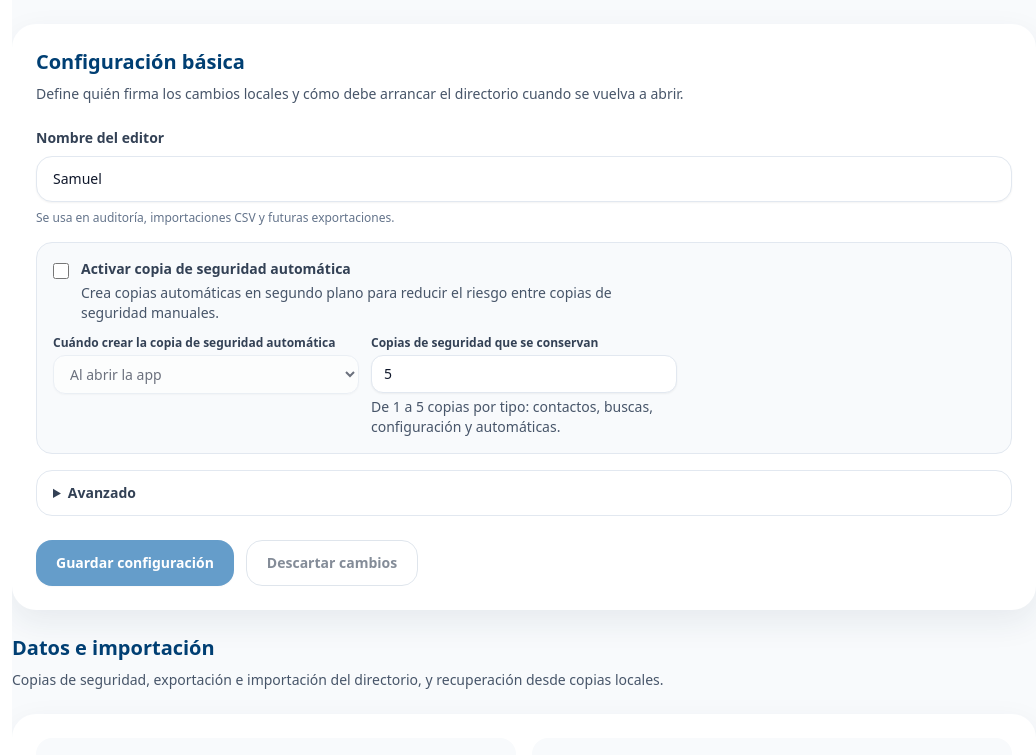
it: SettingsPage › restores the last persisted values when discarding changes
Check: the heading "Configuración básica" is shown, box [36,48,245,75]
Replace the text in the field labelled "Nombre del editor" with "Temporal" at (524, 179), box [36,156,1012,202]
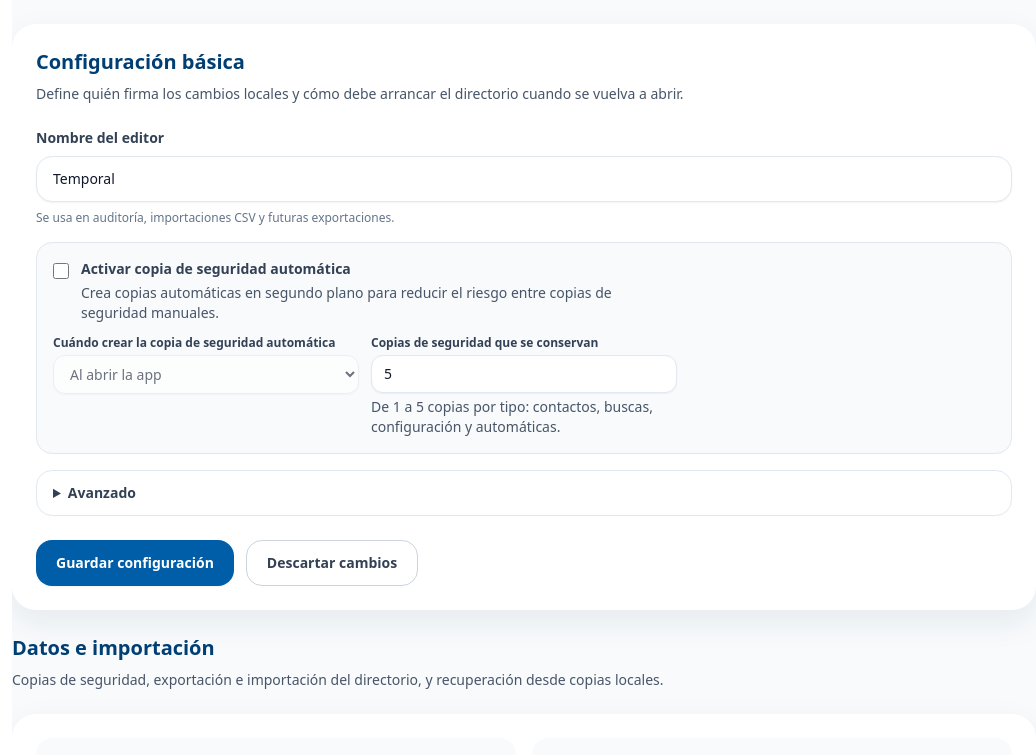
Click the button "Descartar cambios" at (332, 563), box [246,540,418,586]
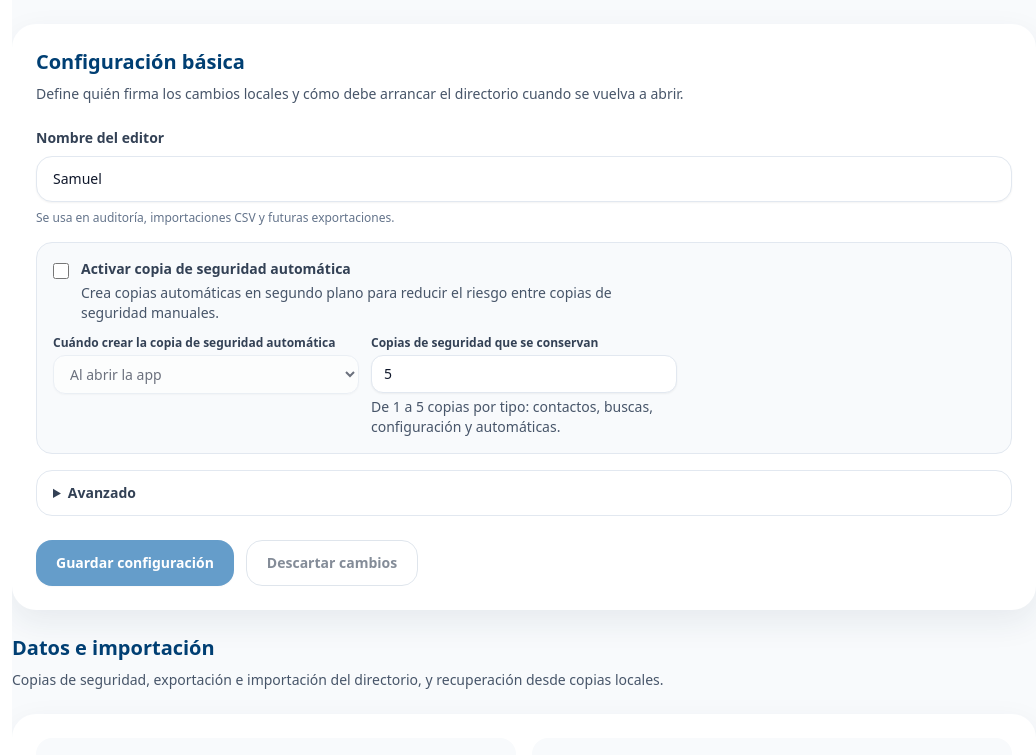
Check: the field labelled "Nombre del editor" holds "Samuel", box [36,156,1012,202]
Check: the button "Guardar configuración" is disabled, box [36,540,234,586]
